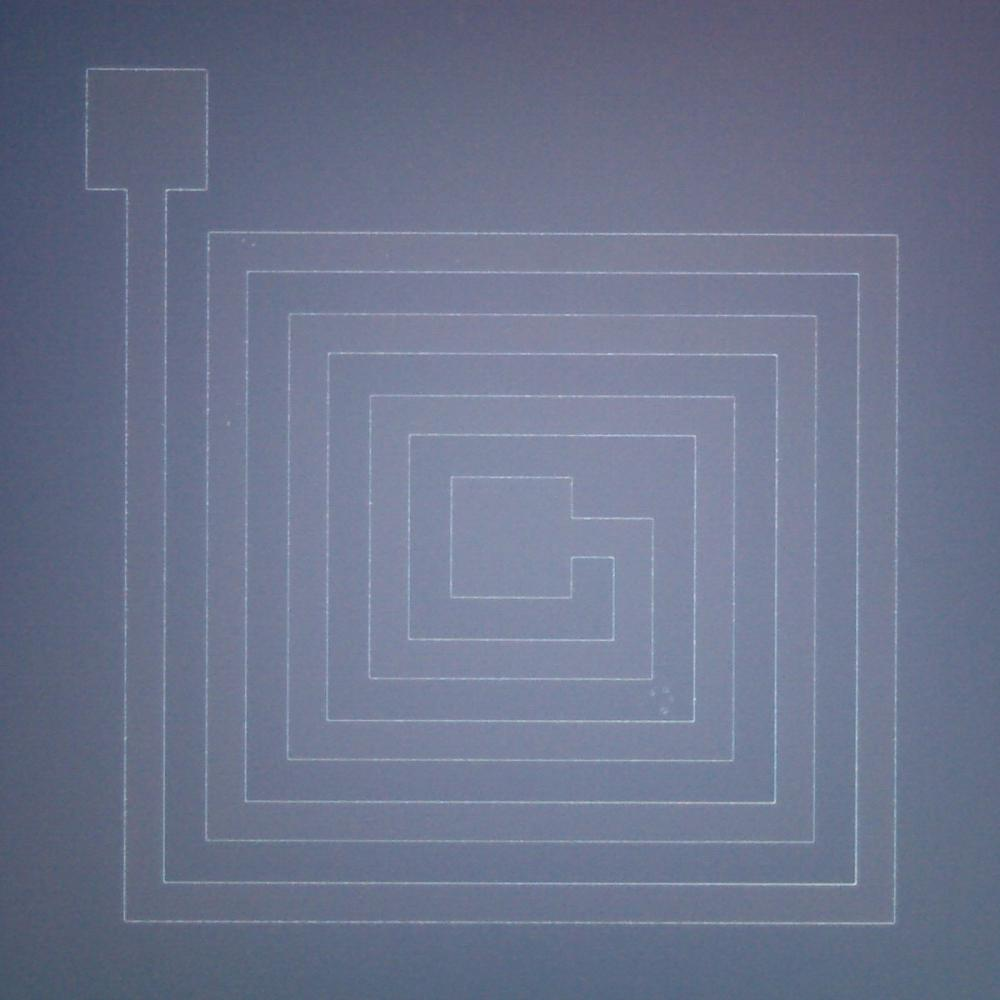dot: (226, 421, 232, 426)
